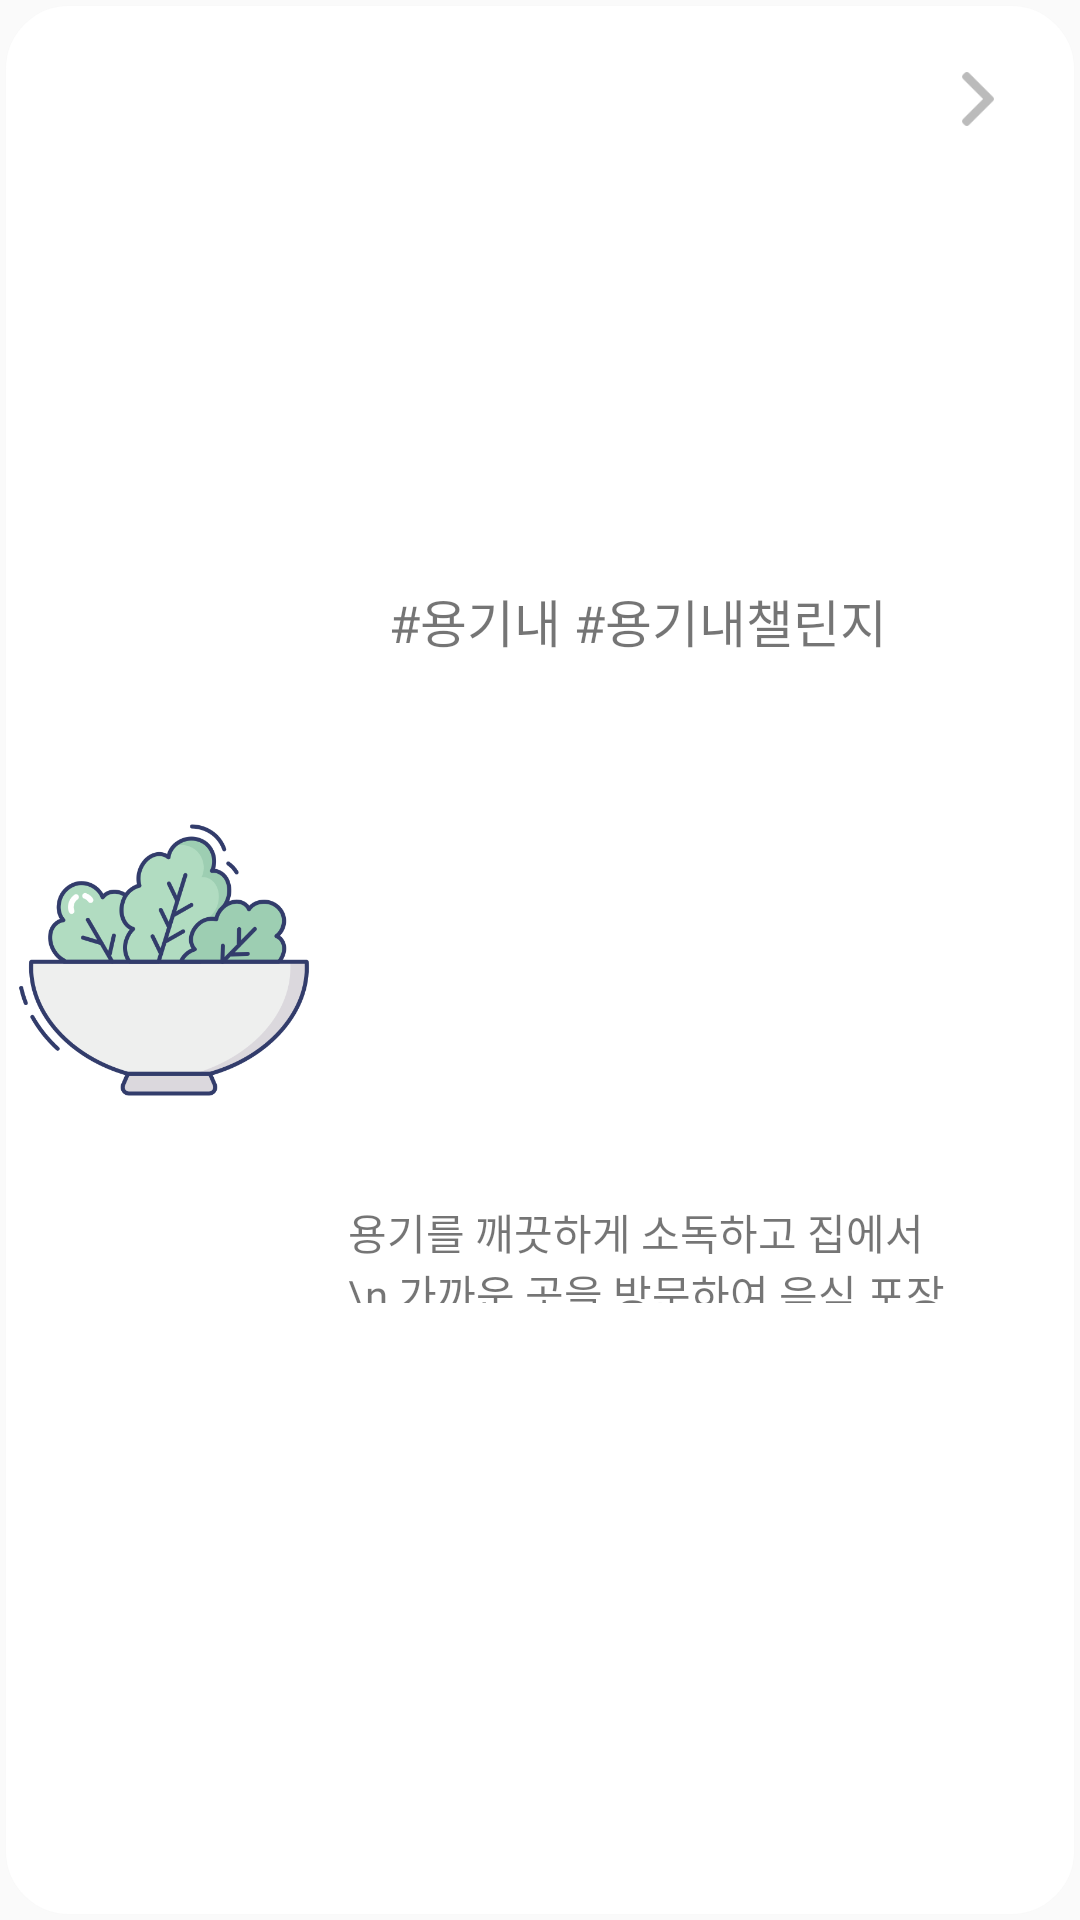

Screen size 1080 × 1920. Icon name, then its center in pixels as (x,y):
arrow right: (978,99)
salad: (164,960)
